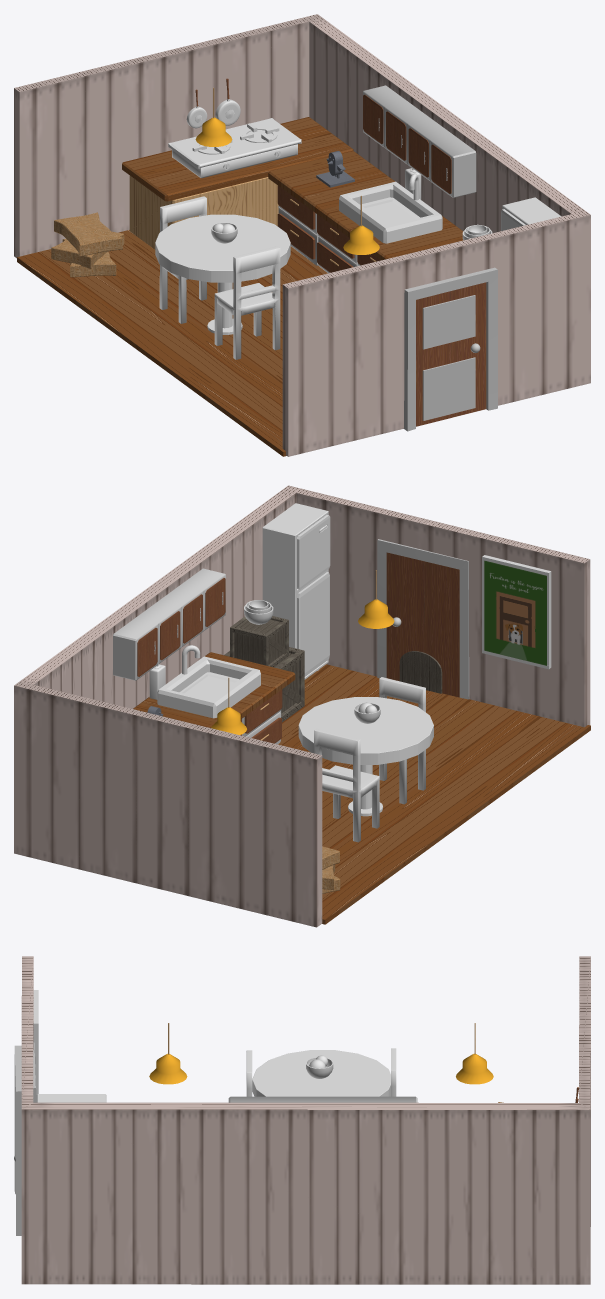
The model's file is LEVEL 2.FBX.
3 views of the same model, one above another, from view 1: azimuth 30°, elevation 25°; view 2: azimuth 150°, elevation 25°; view 3: azimuth 270°, elevation 25° (orthographic). The views are drawn at different scales.
Parts seen in each view (by area): view 1: Line026, Lantai002, Cylinder001, Box029, Box193, Box033, Line028, Box161, KURSI 2, Box020, Box068, Box162 (+19 smaller); view 2: Line026, Lantai002, Box158, Cylinder001, Box024, Box040, Box020, Line027, KURSI 1, Box068, Box048, Box029 (+13 smaller); view 3: Line026, Cylinder001, Line028, Box020, Cylinder002, Cylinder130, Box040.
Part boxes in pixels (x1,y1,x2,y2): Line026: (14, 14, 590, 456); Lantai002: (17, 230, 327, 456); Cylinder001: (155, 214, 290, 282); Box029: (268, 150, 463, 260); Box193: (122, 117, 353, 201); Box033: (129, 175, 278, 249); Line028: (404, 267, 497, 431); Box161: (416, 282, 486, 426); KURSI 2: (214, 246, 280, 359); Box020: (363, 85, 476, 197); Box068: (339, 181, 442, 243); Box162: (422, 357, 475, 420); Line026: (14, 485, 590, 927); Lantai002: (278, 664, 590, 924); Box158: (386, 552, 459, 697); Cylinder001: (298, 697, 433, 764); Box024: (484, 560, 546, 665); Box040: (262, 503, 328, 679); Box020: (113, 568, 225, 680); Line027: (377, 539, 469, 699); KURSI 1: (314, 728, 379, 842); Box068: (157, 656, 260, 718); Box048: (297, 572, 329, 676); Box029: (133, 652, 295, 727); Line026: (21, 956, 590, 1284); Cylinder001: (252, 1050, 390, 1096); Line028: (14, 1045, 21, 1235); Box020: (228, 1096, 417, 1102); Cylinder002: (456, 1053, 493, 1084); Cylinder130: (149, 1053, 187, 1084); Box040: (36, 1094, 106, 1102).
Bounding box in the file's own units: 1360 × 742 × 2138.
